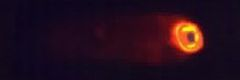keyhole: (184, 29, 197, 47)
